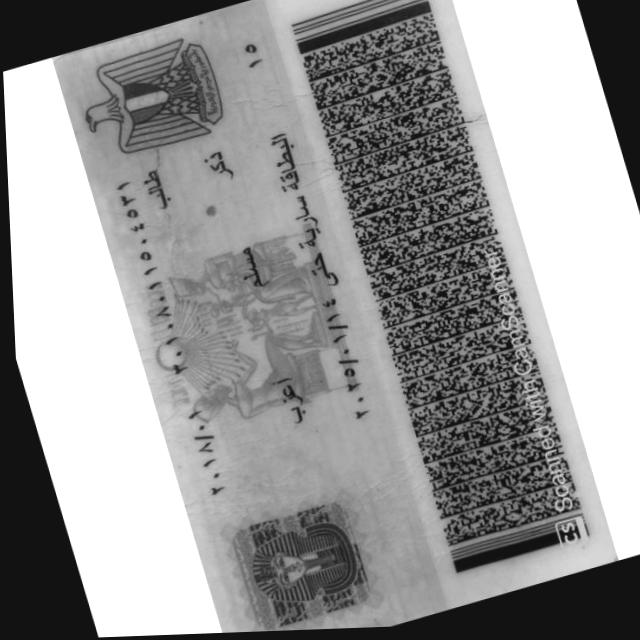id_card: (57, 0, 614, 633)
